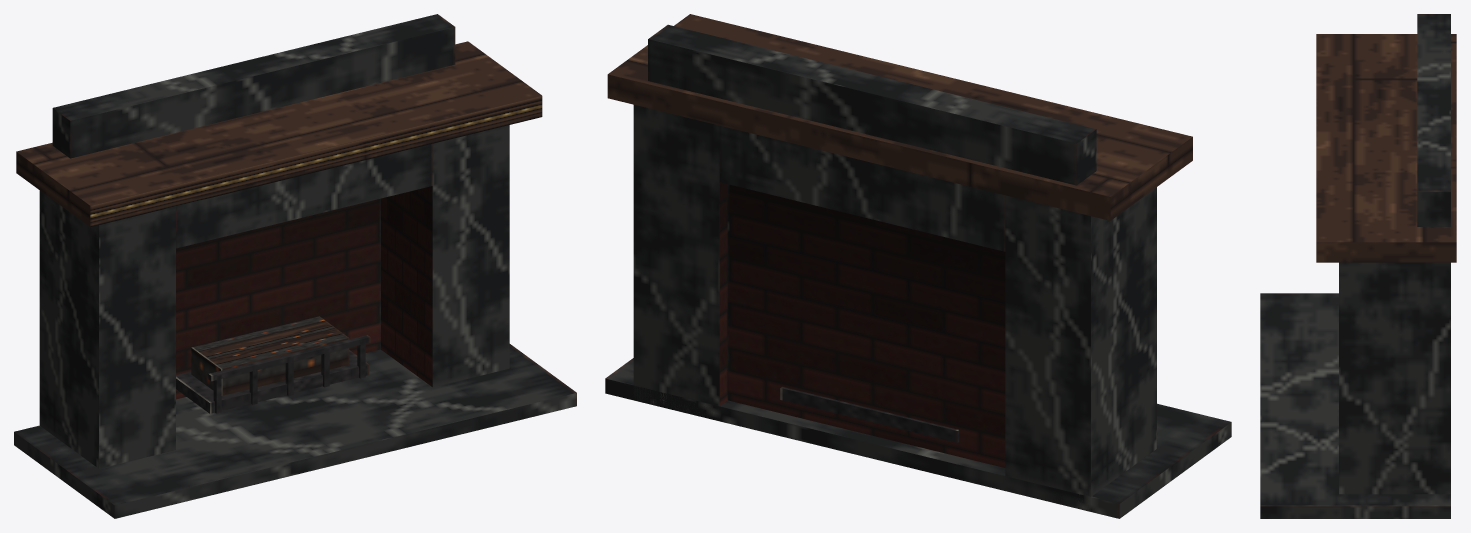
The model's file is Furn_Fireplace.fbx.
3 renders of one model, left to right at view 1: azimuth 30°, elevation 25°; view 2: azimuth 150°, elevation 25°; view 3: azimuth 270°, elevation 25°, orthographic. The views are drawn at different scales.
Visible parts, largest first — view 1: Furn_Fireplace; view 2: Furn_Fireplace; view 3: Furn_Fireplace.
Part boxes in pixels (x1,y1,x2,y2): Furn_Fireplace: (14,14,576,518); Furn_Fireplace: (605,14,1231,518); Furn_Fireplace: (1260,14,1456,518).
Bounding box in the file's own units: 1.8 × 1.22 × 0.7.
